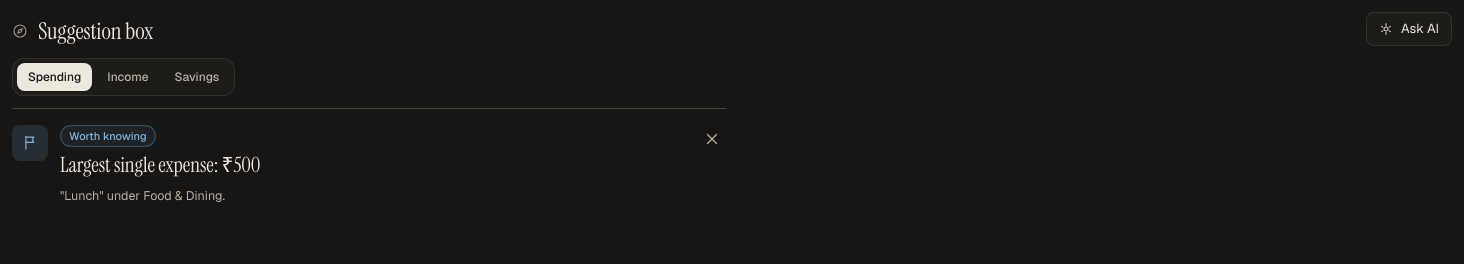
asking a model about the section on show › offers Ask AI only for the topics that have one, and names the active section
Click the button "Ask AI".
click(1409, 29)  # box x1=1366 y1=12 x2=1452 y2=46
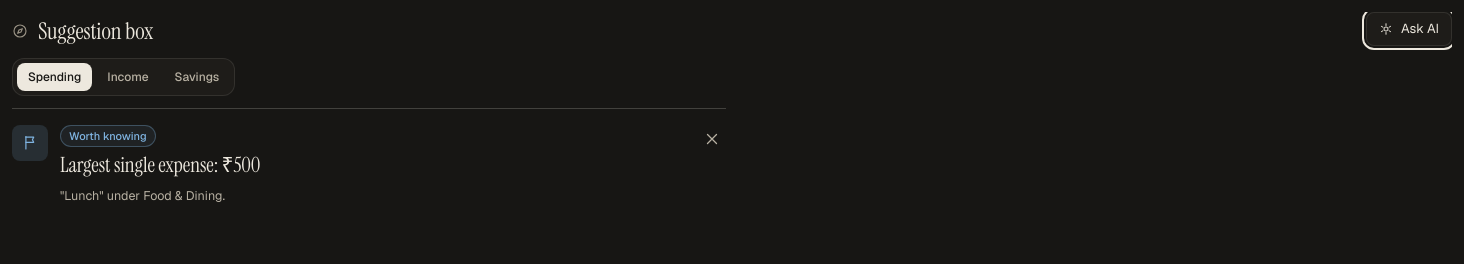
Click the tab "Savings".
click(197, 76)  # box x1=164 y1=62 x2=230 y2=90
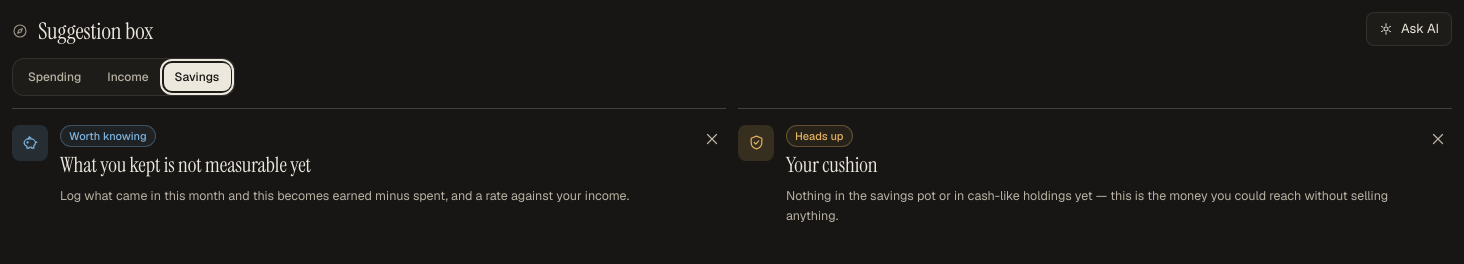
Click the button "Ask AI".
click(1409, 29)  # box x1=1366 y1=12 x2=1452 y2=46
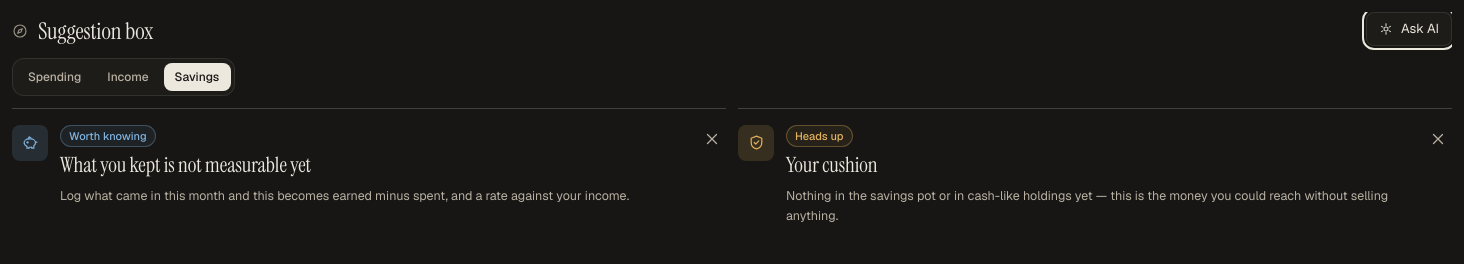
// Nothing is offered for income: there is no topic for it.
Click the tab "Income".
click(128, 76)  # box x1=96 y1=62 x2=160 y2=90
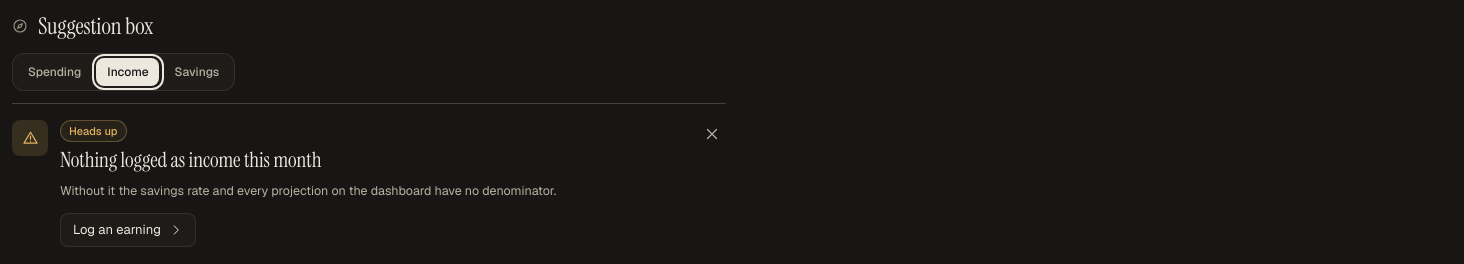
Expected: the button "Ask AI" is gone
